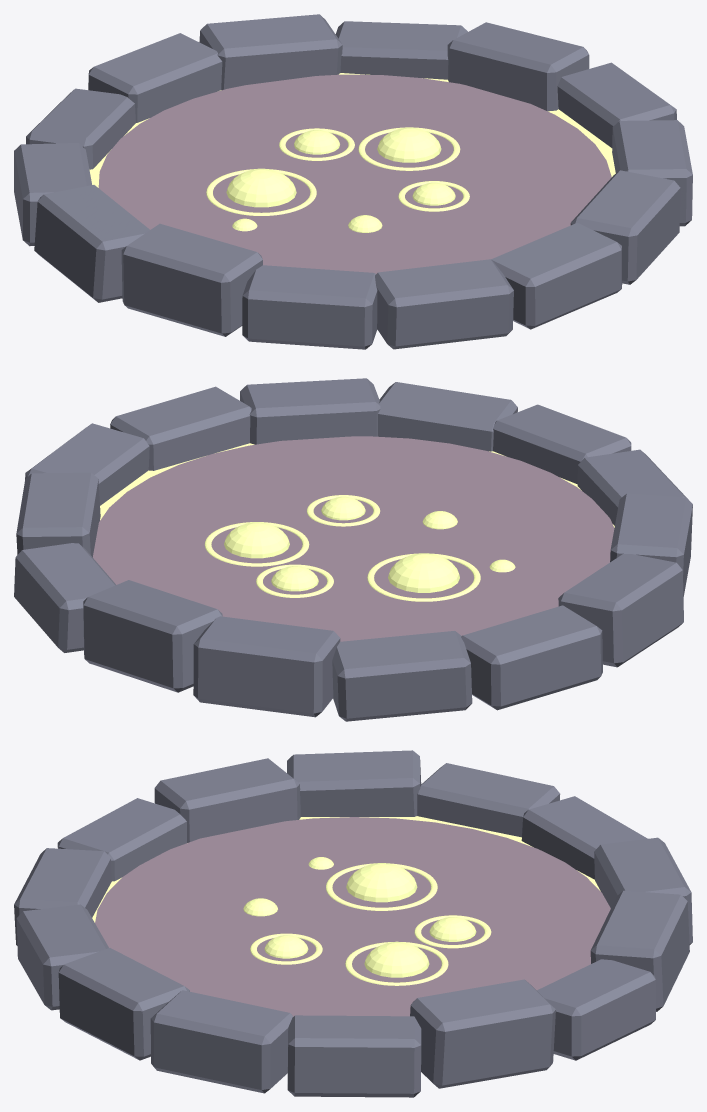
File: Stage_03_迷魂泥潭陷阱.glb
The picture shows the model from 3 angles, top to bottom: view 1: azimuth 30°, elevation 25°; view 2: azimuth 150°, elevation 25°; view 3: azimuth 270°, elevation 25°; orthographic projection. The views are drawn at different scales.
Parts seen in each view (by area): view 1: Cylinder.001, Cube.008, Cube.010, Cube.009, Cube.011, Cube.007, Cube.001, Cube.003, Cube.004, Cube.012, Cube.002, Cube (+12 smaller); view 2: Cylinder.001, Cube.004, Cube.005, Cube.003, Cube.006, Cube.007, Cube.012, Cube.013, Cube.002, Cube.011, Cube.010, Cube.001 (+12 smaller); view 3: Cylinder.001, Cube.001, Cube.013, Cube, Cube.012, Cube.008, Cube.002, Cube.007, Cube.003, Cube.006, Cube.011, Cube.009 (+12 smaller).
Boxes of the visible parts, <box> form: Cylinder.001: <box>98,74,611,273</box>; Cube.008: <box>121,223,262,336</box>; Cube.010: <box>375,259,513,349</box>; Cube.009: <box>242,265,377,349</box>; Cube.011: <box>491,223,622,329</box>; Cube.007: <box>34,185,149,302</box>; Cube.001: <box>447,22,589,111</box>; Cube.003: <box>199,14,342,90</box>; Cube.004: <box>88,33,222,122</box>; Cube.012: <box>570,170,680,284</box>; Cube.002: <box>335,21,467,79</box>; Cube: <box>557,62,676,147</box>; Cylinder.001: <box>93,436,614,641</box>; Cube.004: <box>193,616,340,717</box>; Cube.005: <box>332,631,472,721</box>; Cube.003: <box>83,580,222,692</box>; Cube.006: <box>461,605,602,710</box>; Cube.007: <box>558,554,683,667</box>; Cube.012: <box>240,378,380,444</box>; Cube.013: <box>110,386,251,470</box>; Cube.002: <box>14,543,115,652</box>; Cube.011: <box>378,382,517,451</box>; Cube.010: <box>493,404,631,484</box>; Cube.001: <box>16,472,100,557</box>; Cylinder.001: <box>95,817,610,1016</box>; Cube.001: <box>410,979,555,1088</box>; Cube.013: <box>150,990,293,1093</box>; Cube: <box>287,1015,421,1097</box>; Cube.012: <box>58,948,189,1060</box>; Cube.008: <box>154,758,300,842</box>; Cube.002: <box>537,959,655,1060</box>; Cube.007: <box>287,750,421,816</box>; Cube.003: <box>590,890,689,1011</box>; Cube.006: <box>417,763,560,837</box>; Cube.011: <box>16,904,108,1010</box>; Cube.009: <box>57,798,186,881</box>.
Size of the model in its own units: 4.52 by 0.5329 by 4.49.
